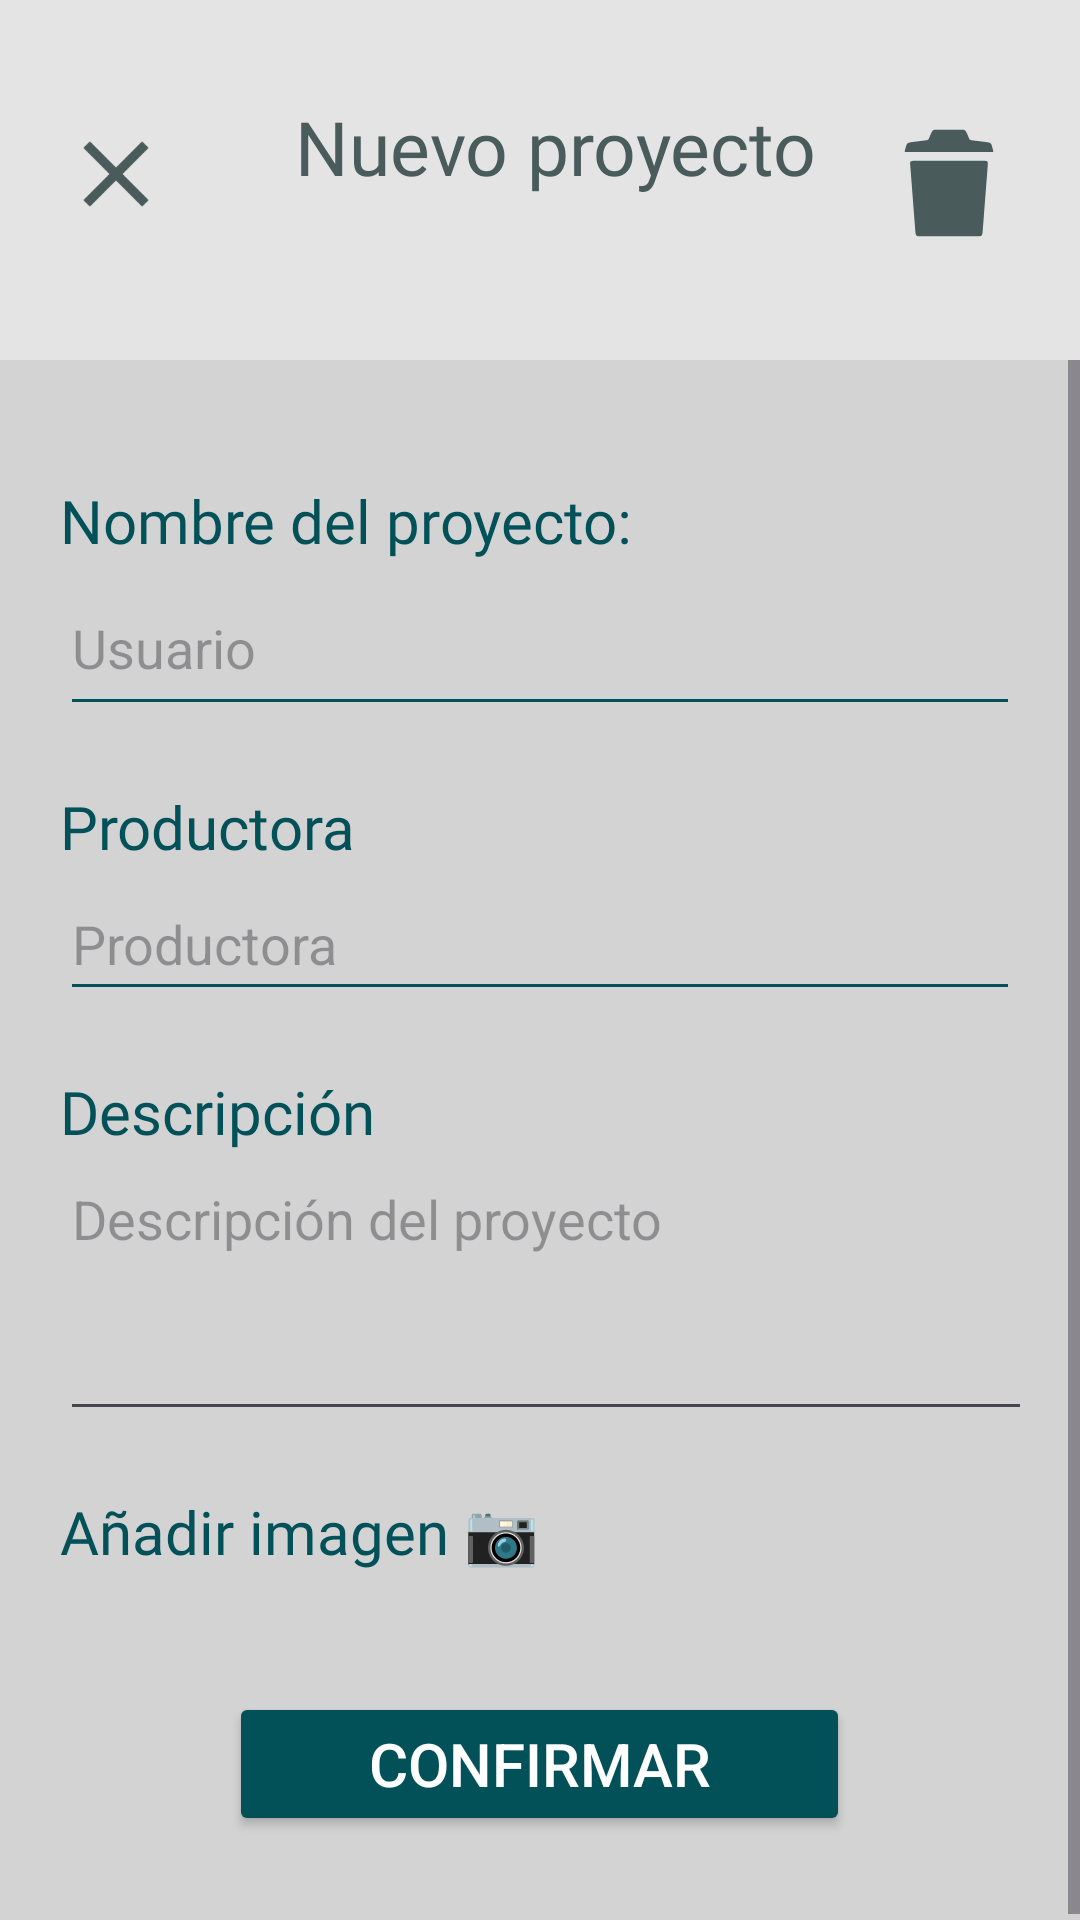

Icons on this 1080 x 1920 Android screen, each with the point to tap as (x,y):
Eliminar proyecto: (949,183)
Parra cerrar el formulario: (116,174)
